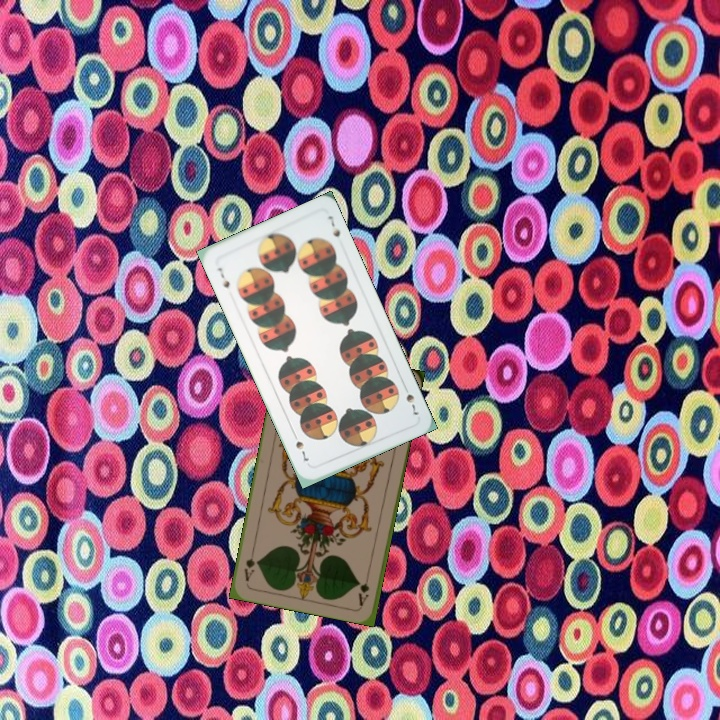GA: (355, 568, 372, 608)
S7: (399, 381, 422, 420), (213, 263, 232, 292)
